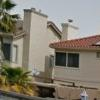Chimney: (58, 13, 77, 43)
